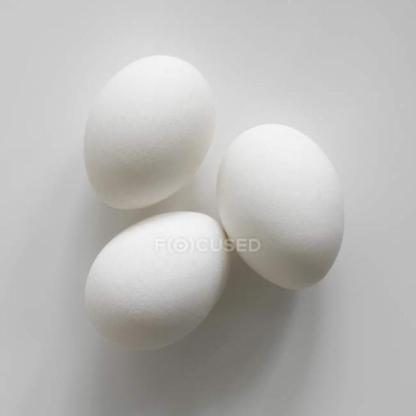egg: (53, 192, 272, 370), (202, 100, 390, 300), (52, 14, 226, 212)
